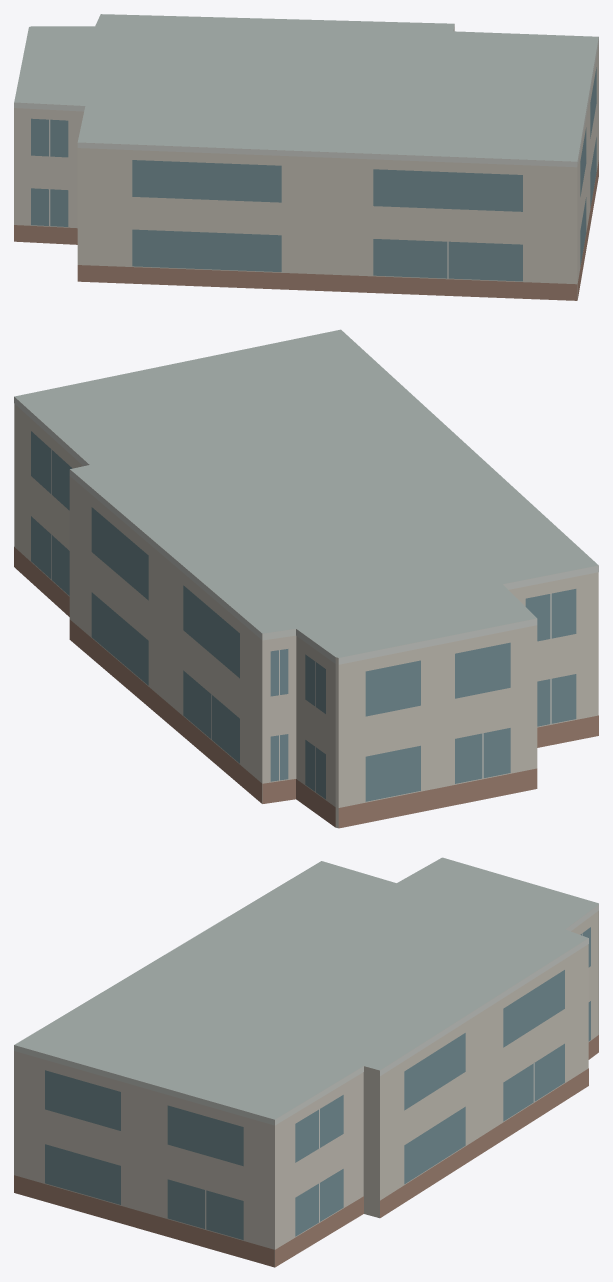
The model's file is survey-upis-32854974.glb.
3 renders of one model, top to bottom at view 1: azimuth 30°, elevation 25°; view 2: azimuth 150°, elevation 25°; view 3: azimuth 270°, elevation 25°, orthographic. The views are drawn at different scales.
Visible parts, largest first — view 1: survey-upis-32854974.tmp; view 2: survey-upis-32854974.tmp; view 3: survey-upis-32854974.tmp.
Part boxes in pixels (x1=…): survey-upis-32854974.tmp: x1=14, y1=14, x2=598, y2=300; survey-upis-32854974.tmp: x1=14, y1=329, x2=598, y2=828; survey-upis-32854974.tmp: x1=14, y1=857, x2=598, y2=1267.
Bounding box in the file's own units: 23.22 × 6.1 × 21.88.
